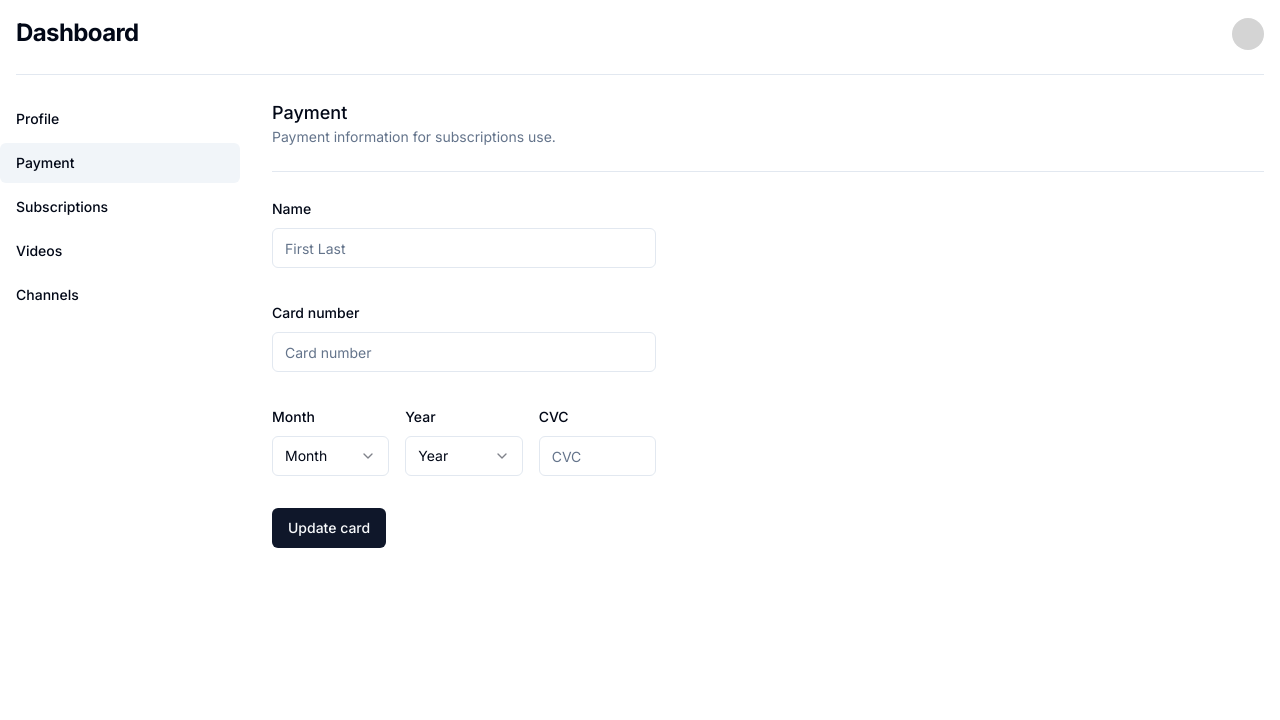
it: Payment Card Update Form › should show validation errors for empty required fields
Check month and year placeholders
Step 1. Click the dropdown with test id "month" → coordinates (331, 456), box left=272, top=436, right=389, bottom=476
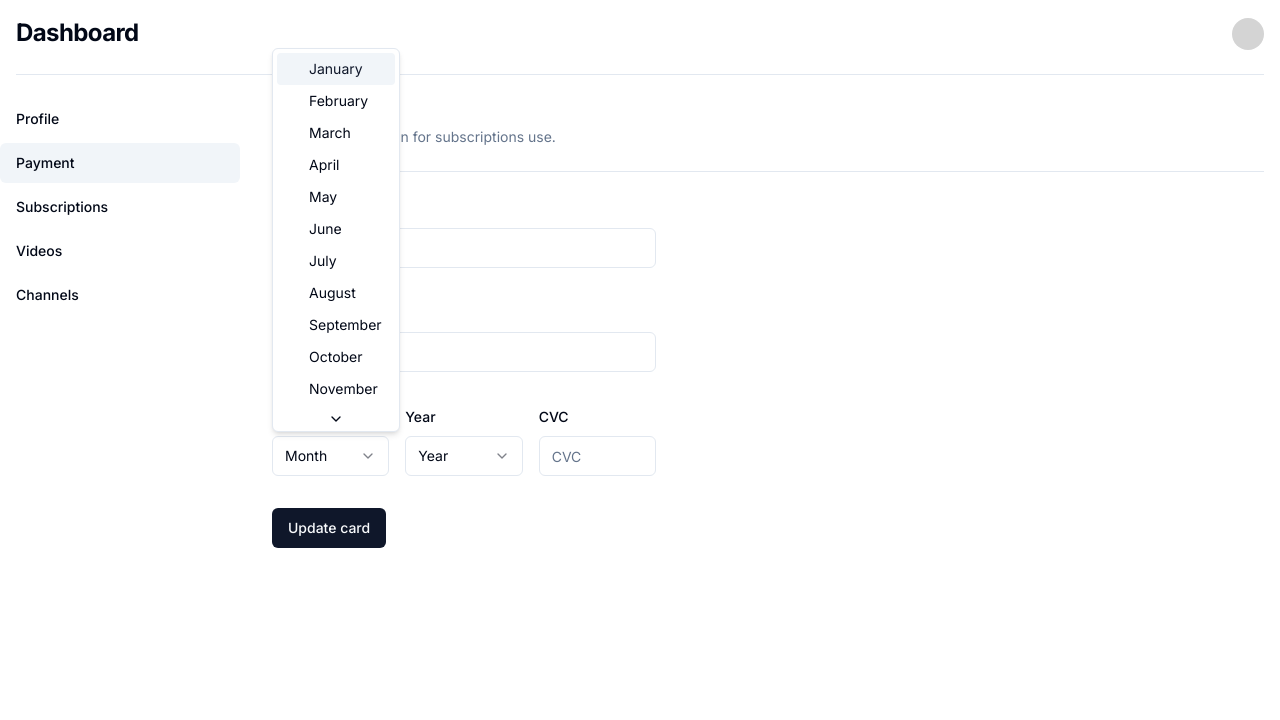
Expected: the text with test id "month" reads "Month", left=285, top=447, right=327, bottom=464
Step 2. Click the dropdown with test id "year" → coordinates (464, 456), box left=405, top=436, right=522, bottom=476
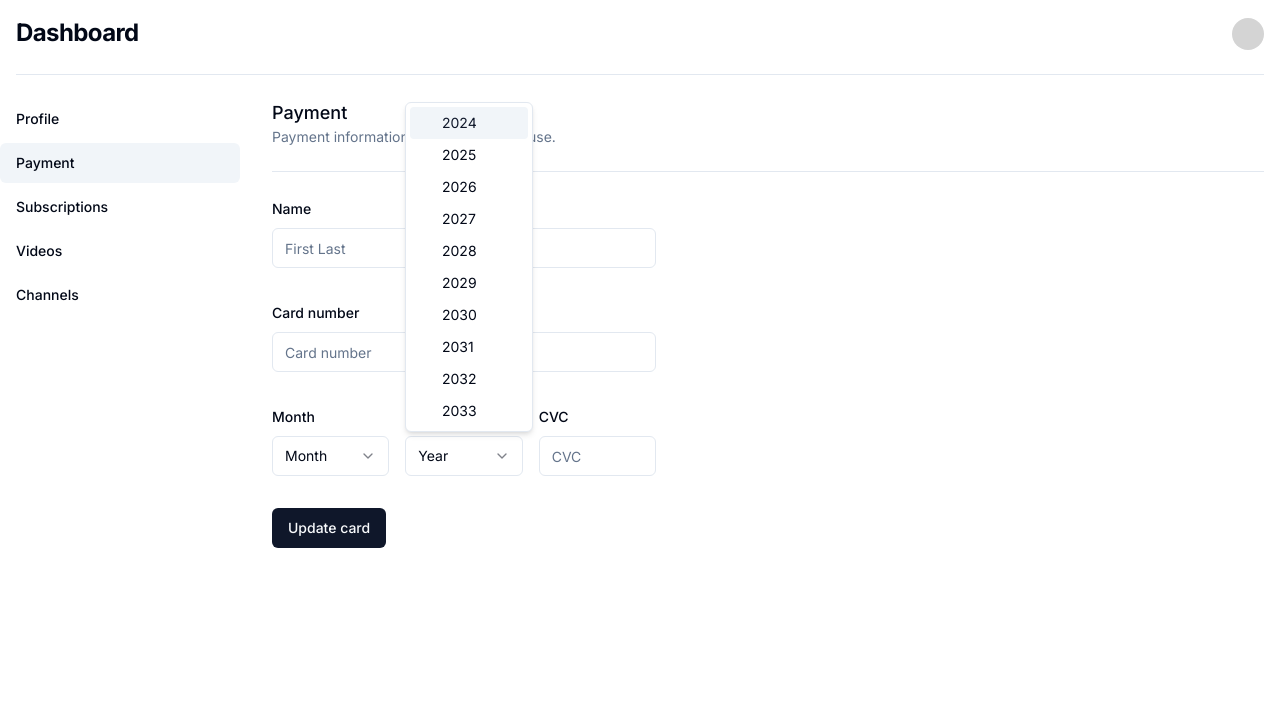
Expected: the text with test id "year" reads "Year", left=418, top=447, right=448, bottom=464
Submit the form
Step 3. Click the submit button → coordinates (329, 528), box left=272, top=508, right=386, bottom=548
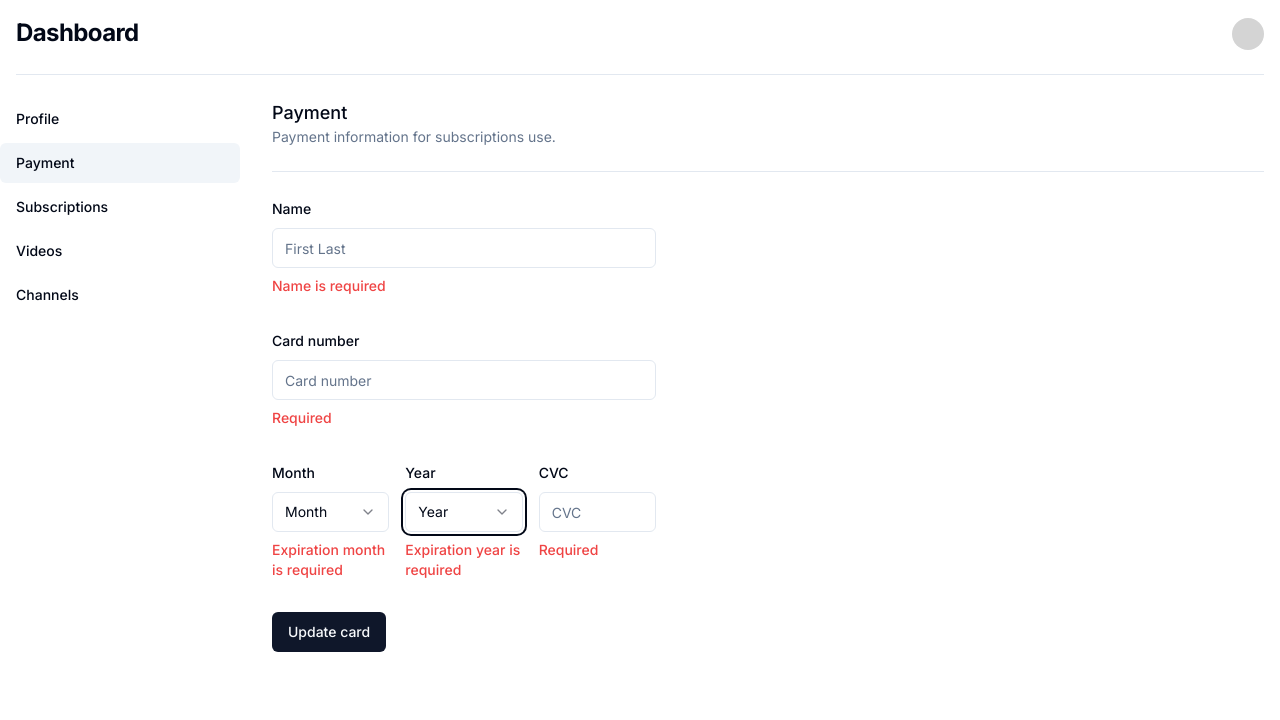
Expected: the text "Name is required" is shown, left=272, top=277, right=386, bottom=294
